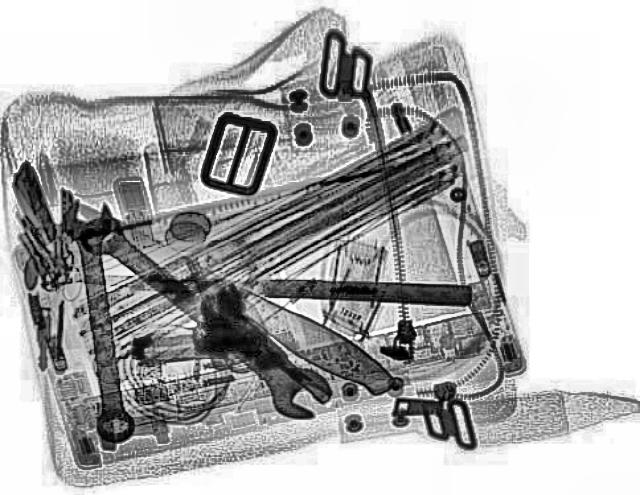Gun: (122, 293, 330, 450)
Knife: (62, 190, 406, 400), (66, 264, 470, 305)
Wrench: (56, 204, 348, 428), (58, 198, 136, 444)
